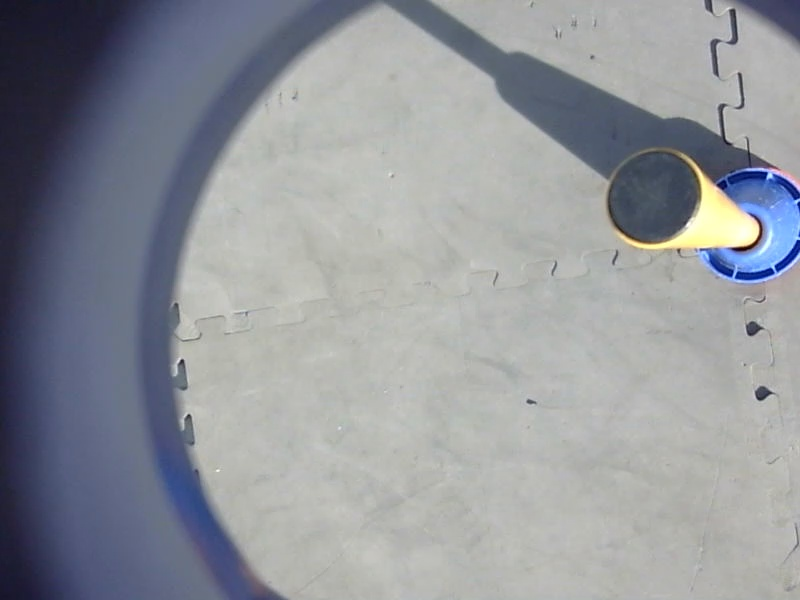tip: (596, 141, 712, 254)
